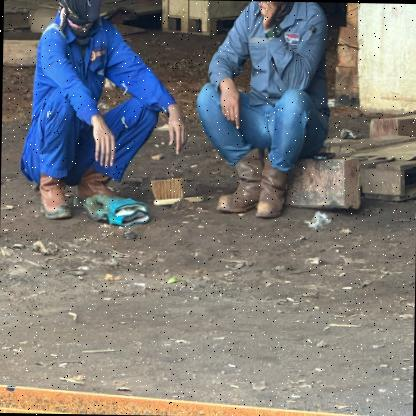bota: (212, 152, 270, 213), (258, 146, 286, 224), (34, 170, 72, 222), (77, 162, 118, 205)
sem_luva: (216, 77, 247, 131), (88, 120, 116, 162), (165, 103, 186, 151)
